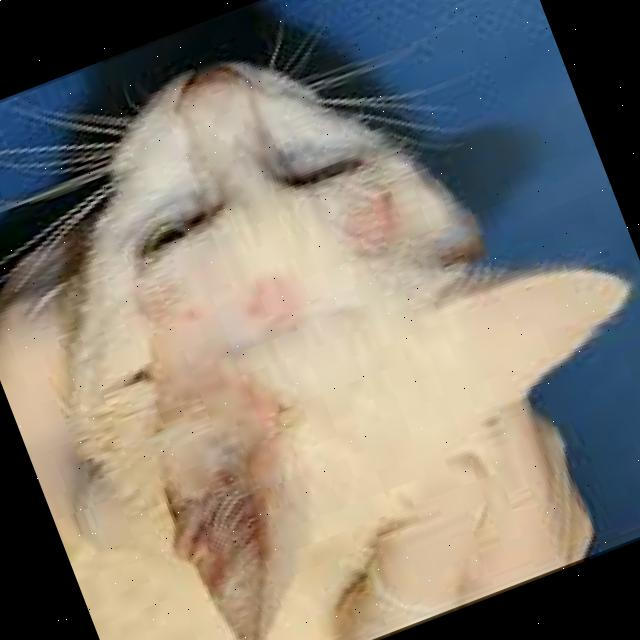cat-hairloss: (150, 307, 238, 403), (342, 190, 408, 260), (238, 265, 300, 335), (236, 380, 288, 436)
